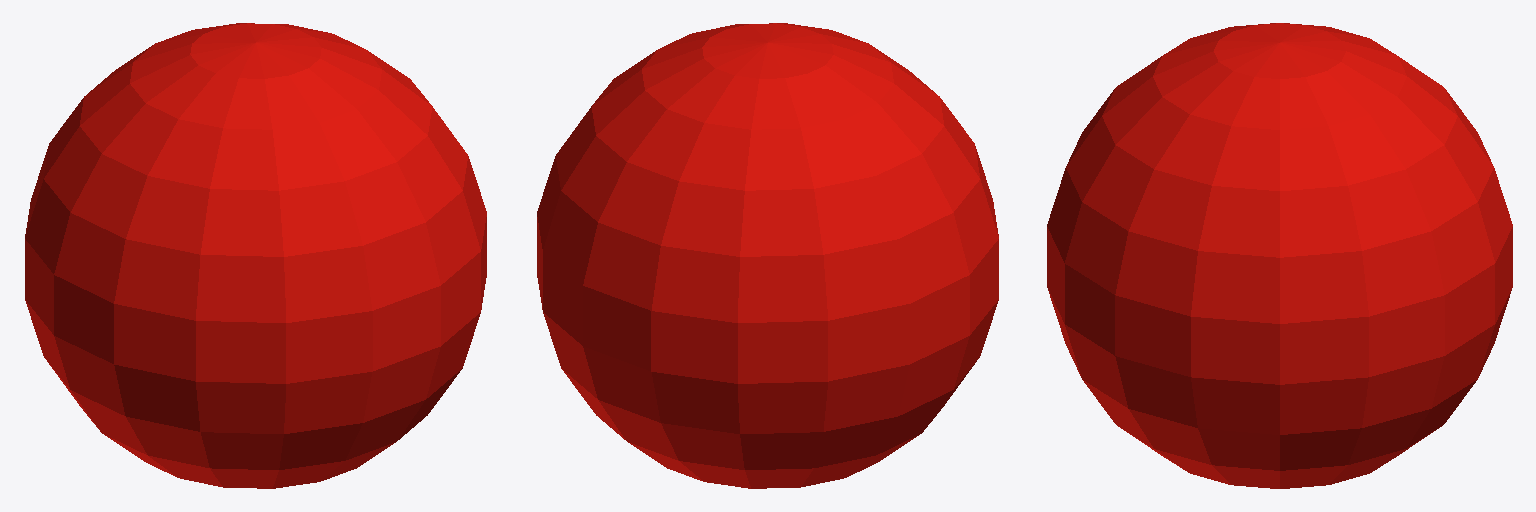
Rendered from FireBullet.obj.
The picture shows the model from 3 angles: view 1: azimuth 30°, elevation 25°; view 2: azimuth 150°, elevation 25°; view 3: azimuth 270°, elevation 25°; orthographic projection.
Visible parts, largest first — view 1: FireBullet; view 2: FireBullet; view 3: FireBullet.
Part boxes in pixels (bbox=[...]): FireBullet: bbox=[25, 23, 486, 488]; FireBullet: bbox=[537, 23, 998, 488]; FireBullet: bbox=[1047, 23, 1512, 488].
Size of the model in its own units: 1.98 by 2 by 1.98.